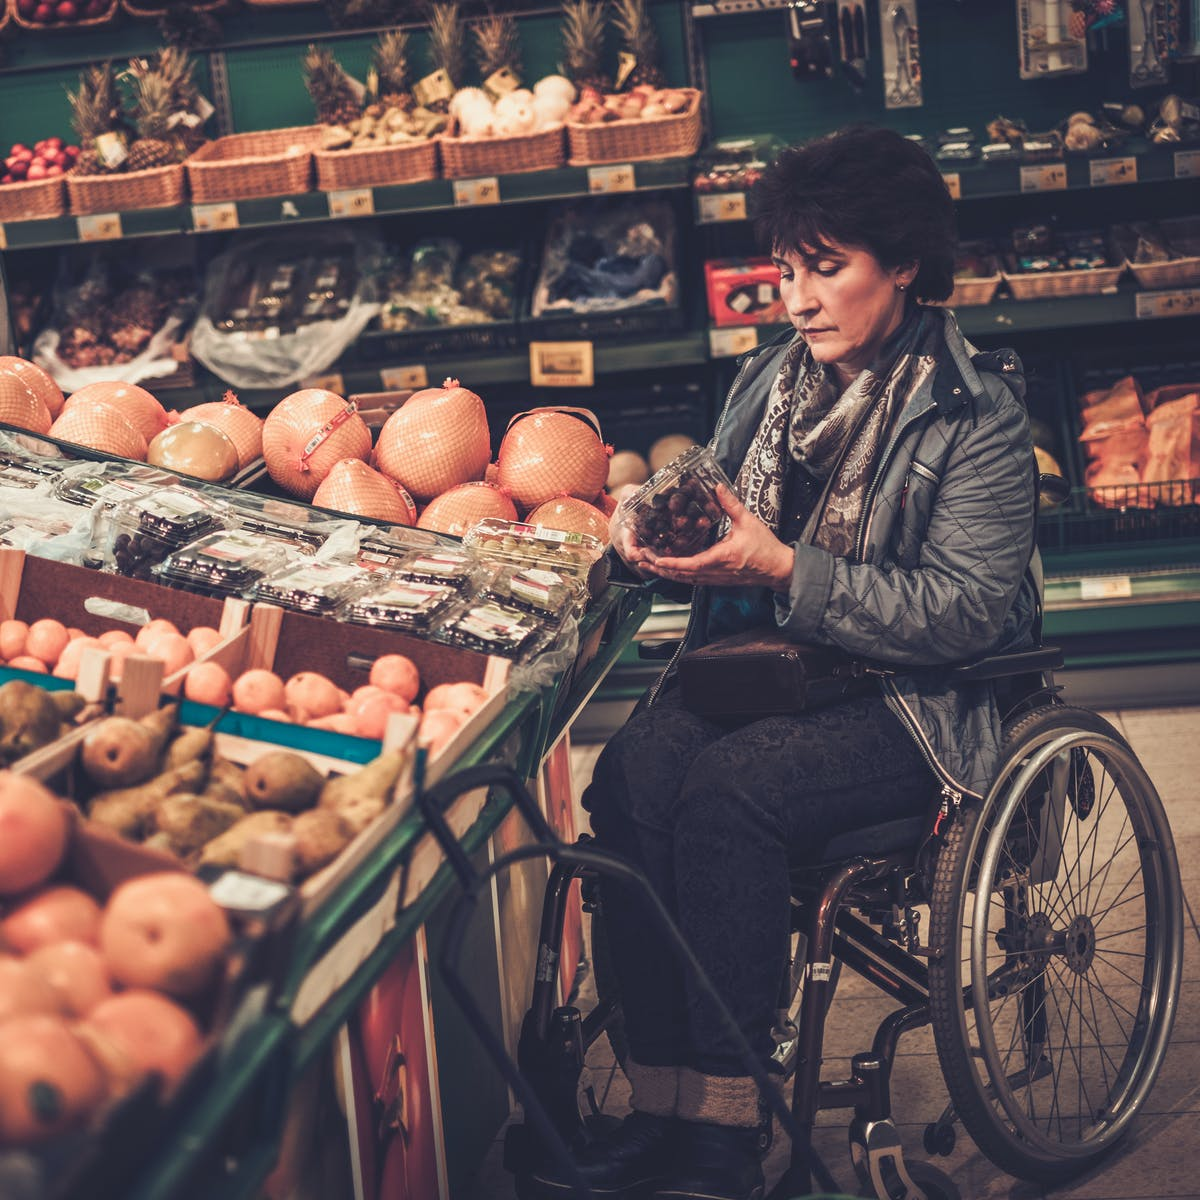wheelchair: (529, 123, 1186, 1179)
